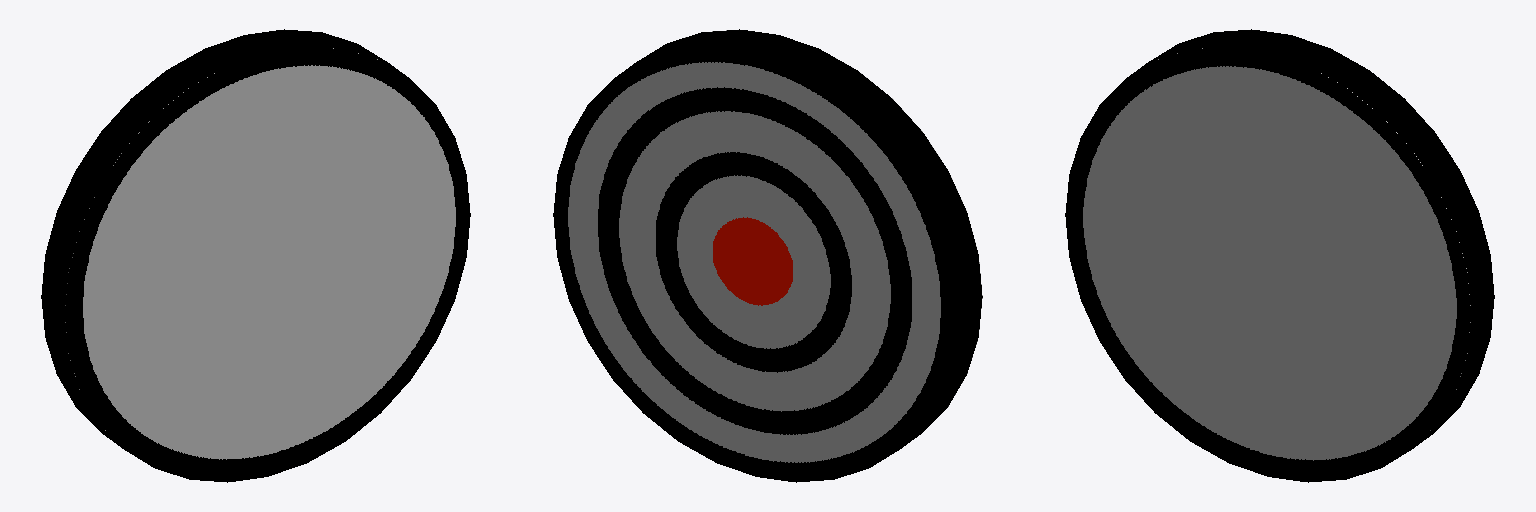
3 views of the same model, side by side, from view 1: azimuth 30°, elevation 25°; view 2: azimuth 150°, elevation 25°; view 3: azimuth 330°, elevation 25° (orthographic).
Visible parts, largest first — view 1: 円柱; view 2: 円柱; view 3: 円柱.
Boxes of the visible parts, x1,y1,x2,y2 form: 円柱: [41, 29, 470, 482]; 円柱: [553, 29, 982, 482]; 円柱: [1065, 29, 1494, 482].
Bounding box in the file's own units: 2 × 2 × 0.2.
Materials: 1 (1 with a texture image).